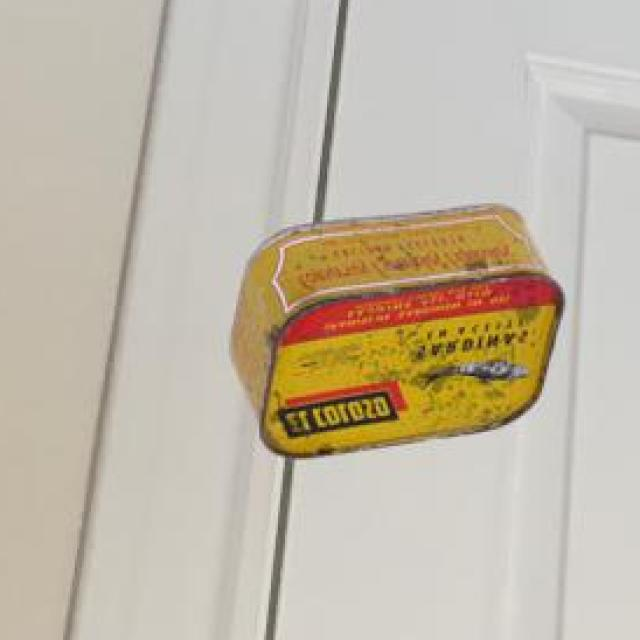logam: (228, 209, 562, 461)
